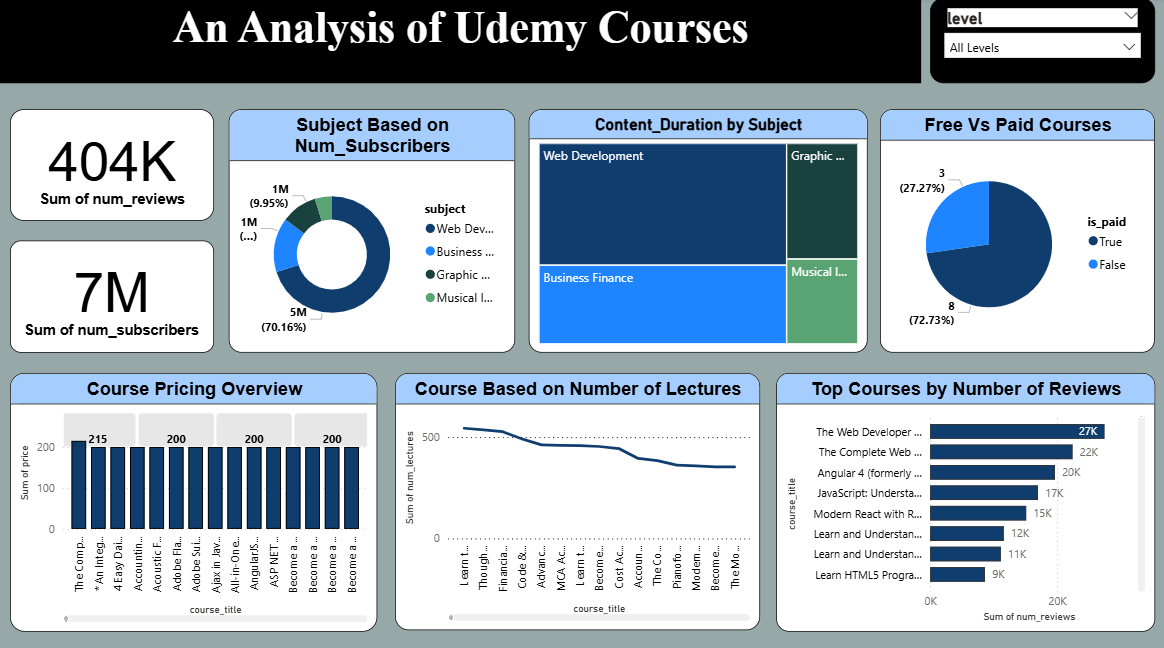

The dashboard page shown, as its layout file describes it:
{"tool":"powerbi","page":{"name":"Page 1","canvas":[1280,720],"ordinal":0},"visuals":[{"type":"textbox","box":[0,0,1011.3,93.3],"z":0},{"type":"treemap","title":"Content_Duration by Subject","fields":{"Values":["Sum(udemy_courses.content_duration)"],"Group":["udemy_courses.subject"]},"box":[580.4,122.1,371.9,267.6],"z":1000},{"type":"columnChart","title":"Course Pricing Overview","fields":{"Category":["udemy_courses.course_title"],"Y":["Sum(udemy_courses.price)"]},"box":[11,411.7,403.4,284],"z":2000},{"type":"donutChart","title":"Subject Based on Num_Subscribers","fields":{"Y":["Sum(udemy_courses.num_subscribers)"],"Category":["udemy_courses.subject"]},"box":[251.1,122.1,314.2,267.6],"z":3000},{"type":"barChart","title":"Top Courses by Number of Reviews","fields":{"Category":["udemy_courses.course_title"],"Y":["Sum(udemy_courses.num_reviews)"]},"box":[852.1,411.7,415.8,284],"z":4000},{"type":"lineChart","title":"Course Based on Number of Lectures","fields":{"Category":["udemy_courses.course_title"],"Y":["Sum(udemy_courses.num_lectures)"]},"box":[433.6,411.7,400.7,282.7],"z":5000},{"type":"pieChart","title":" Free Vs  Paid Courses","fields":{"Category":["udemy_courses.is_paid"],"Y":["CountNonNull(udemy_courses.course_title)"]},"box":[966,122.1,301.9,267.6],"z":6000},{"type":"card","fields":{"Values":["Sum(udemy_courses.num_reviews)"]},"box":[11,122.1,223.7,122.1],"z":7000},{"type":"card","fields":{"Values":["Sum(udemy_courses.num_subscribers)"]},"box":[11,266.2,223.7,123.5],"z":8000},{"type":"slicer","fields":{"Values":["udemy_courses.level"]},"box":[1020.9,0,247,93.3],"z":9000}]}

Visuals, with their boxes in screenshot pixels (x1, y1, x2, y2), scaled from the page's 1280x720 canvas onto the 1164x648 screenshot:
textbox: [0, 0, 920, 84]
"Content_Duration by Subject" treemap: [528, 110, 866, 351]
"Course Pricing Overview" columnChart: [10, 371, 377, 626]
"Subject Based on Num_Subscribers" donutChart: [228, 110, 514, 351]
"Top Courses by Number of Reviews" barChart: [775, 371, 1153, 626]
"Course Based on Number of Lectures" lineChart: [394, 371, 759, 625]
" Free Vs  Paid Courses" pieChart: [878, 110, 1153, 351]
card - Sum(udemy_courses.num_reviews): [10, 110, 213, 220]
card - Sum(udemy_courses.num_subscribers): [10, 240, 213, 351]
slicer - udemy_courses.level: [928, 0, 1153, 84]
